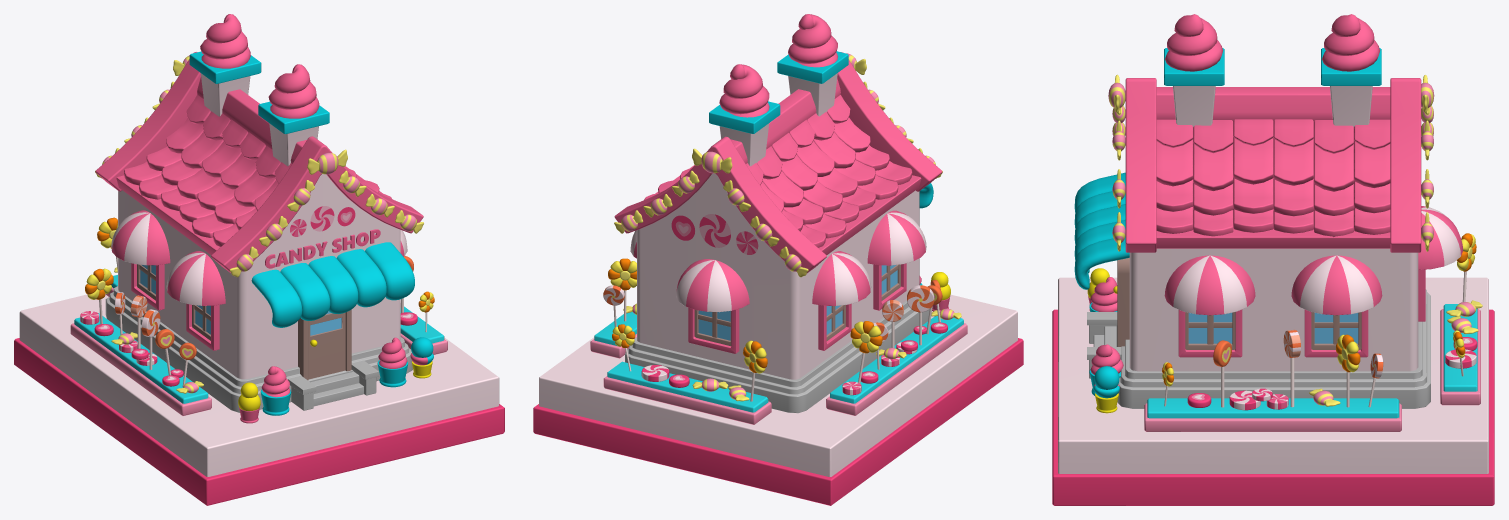
File: Store_Island_8.glb
The picture shows the model from 3 angles, left to right: view 1: azimuth 30°, elevation 25°; view 2: azimuth 150°, elevation 25°; view 3: azimuth 270°, elevation 25°; orthographic projection. The views are drawn at different scales.
Visible parts, largest first — view 1: Store_8_Candy_shop_1, Store_8_Base_1, Store_8_Candy_Stand_2, Store_8_Candy_Decoration_4, Store_8_Candy_Decoration_1, Store_8_Candy_Stand_1, Store_8_Candy_Decoration_2, Store_8_Candy_26, Store_8_Candy_Decoration_3, Store_8_Candy_11, Store_8_Candy_7; view 2: Store_8_Candy_shop_1, Store_8_Base_1, Store_8_Candy_Stand_3, Store_8_Candy_Stand_2, Store_8_Candy_Stand_1, Store_8_Candy_26, Store_8_Candy_5, Store_8_Candy_7, Store_8_Candy_29, Store_8_Candy_19; view 3: Store_8_Candy_shop_1, Store_8_Base_1, Store_8_Candy_Stand_1, Store_8_Candy_Stand_3, Store_8_Candy_Decoration_2, Store_8_Candy_5, Store_8_Candy_Decoration_4, Store_8_Candy_Decoration_1, Store_8_Candy_23, Store_8_Candy_29, Store_8_Candy_8.
Part boxes in pixels (box(x1,y1,x2,y2)): Store_8_Candy_shop_1: box(95, 14, 423, 412); Store_8_Base_1: box(14, 294, 504, 505); Store_8_Candy_Stand_2: box(70, 313, 211, 415); Store_8_Candy_Decoration_4: box(260, 366, 291, 415); Store_8_Candy_Decoration_1: box(377, 337, 407, 387); Store_8_Candy_Stand_1: box(400, 306, 447, 354); Store_8_Candy_Decoration_2: box(410, 337, 433, 378); Store_8_Candy_26: box(85, 268, 113, 324); Store_8_Candy_Decoration_3: box(238, 382, 260, 423); Store_8_Candy_11: box(307, 149, 347, 174); Store_8_Candy_7: box(141, 309, 160, 369); Store_8_Candy_shop_1: box(614, 14, 942, 413); Store_8_Base_1: box(533, 294, 1023, 505); Store_8_Candy_Stand_3: box(603, 361, 771, 424); Store_8_Candy_Stand_2: box(826, 316, 967, 415); Store_8_Candy_Stand_1: box(590, 312, 636, 358); Store_8_Candy_26: box(850, 321, 882, 383); Store_8_Candy_5: box(608, 258, 636, 321); Store_8_Candy_7: box(907, 285, 934, 345); Store_8_Candy_29: box(743, 340, 767, 401); Store_8_Candy_19: box(692, 148, 732, 173); Store_8_Candy_shop_1: box(1074, 14, 1463, 408); Store_8_Base_1: box(1052, 277, 1494, 505); Store_8_Candy_Stand_1: box(1144, 398, 1401, 431); Store_8_Candy_Stand_3: box(1440, 304, 1480, 405); Store_8_Candy_Decoration_2: box(1093, 366, 1119, 413); Store_8_Candy_5: box(1336, 334, 1360, 407); Store_8_Candy_Decoration_4: box(1089, 277, 1117, 311); Store_8_Candy_Decoration_1: box(1089, 344, 1123, 395); Store_8_Candy_23: box(1283, 329, 1300, 407); Store_8_Candy_29: box(1456, 233, 1476, 301); Store_8_Candy_8: box(1213, 340, 1231, 407).
Size of the model in its own units: 9 by 10.34 by 10.06.
Materials: 54 (54 with a texture image).
